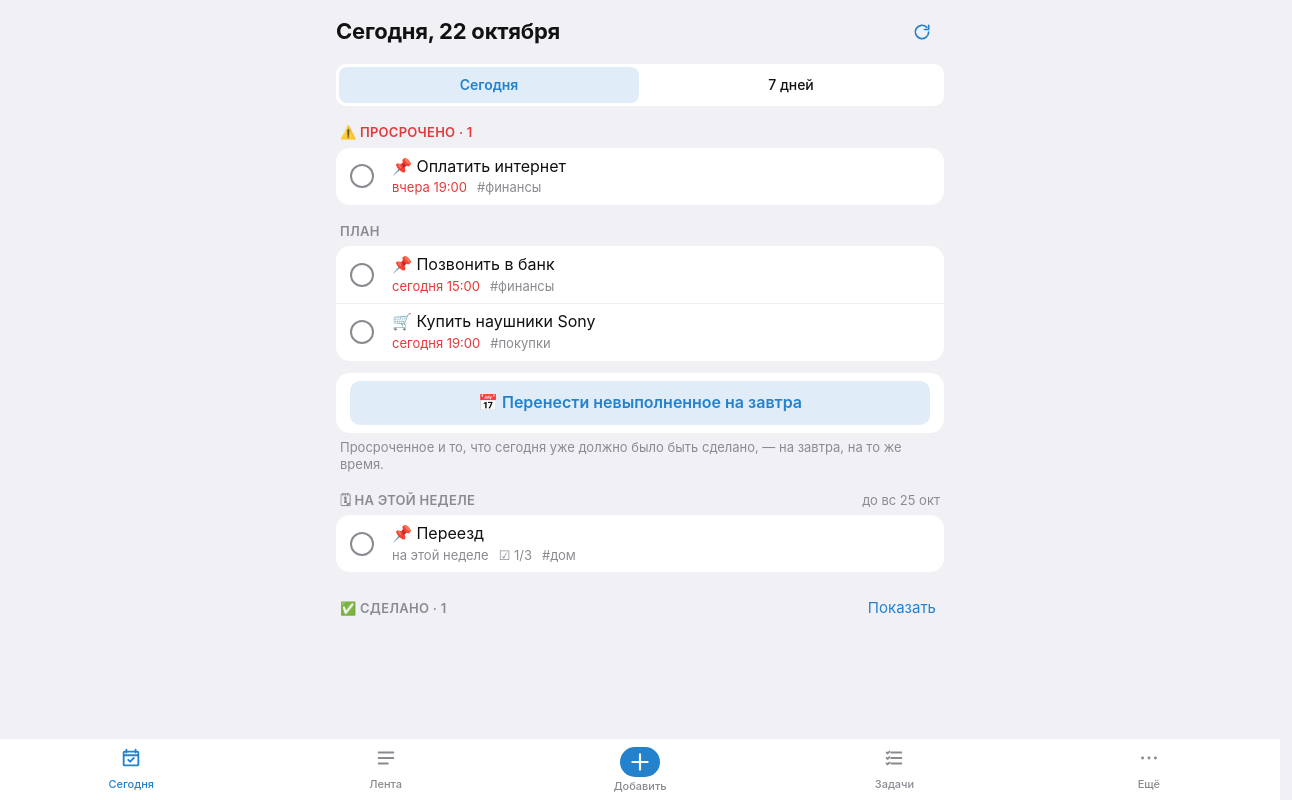
Test: with the mock API › moves what is left of today to tomorrow, like the evening digest's button
Check: the text "Оплатить интернет" is shown, box [416,156,566,176]
Click the button "📅 Перенести невыполненное на завтра": (640, 402) [350,380,930,424]
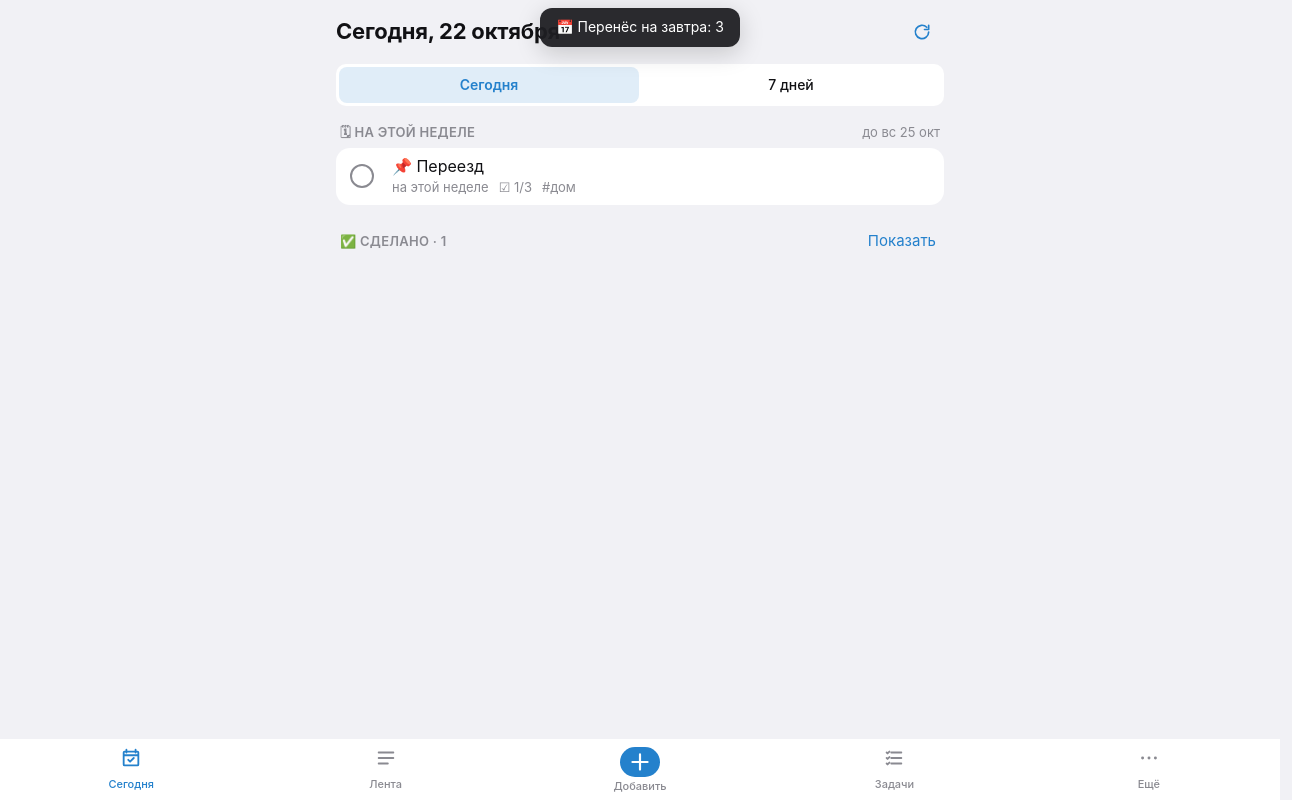
Check: the text "📅 Перенёс на завтра: 3" is shown, box [540,8,740,47]
Check: the button "Оплатить интернет" is gone
Check: the button "📅 Перенести невыполненное на завтра" is gone
